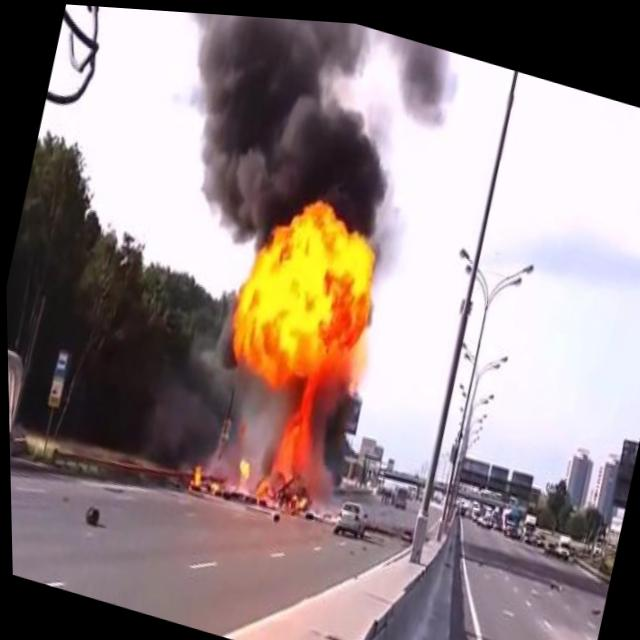fire: (207, 167, 399, 421), (242, 387, 326, 518), (225, 450, 253, 488), (184, 456, 205, 492)
